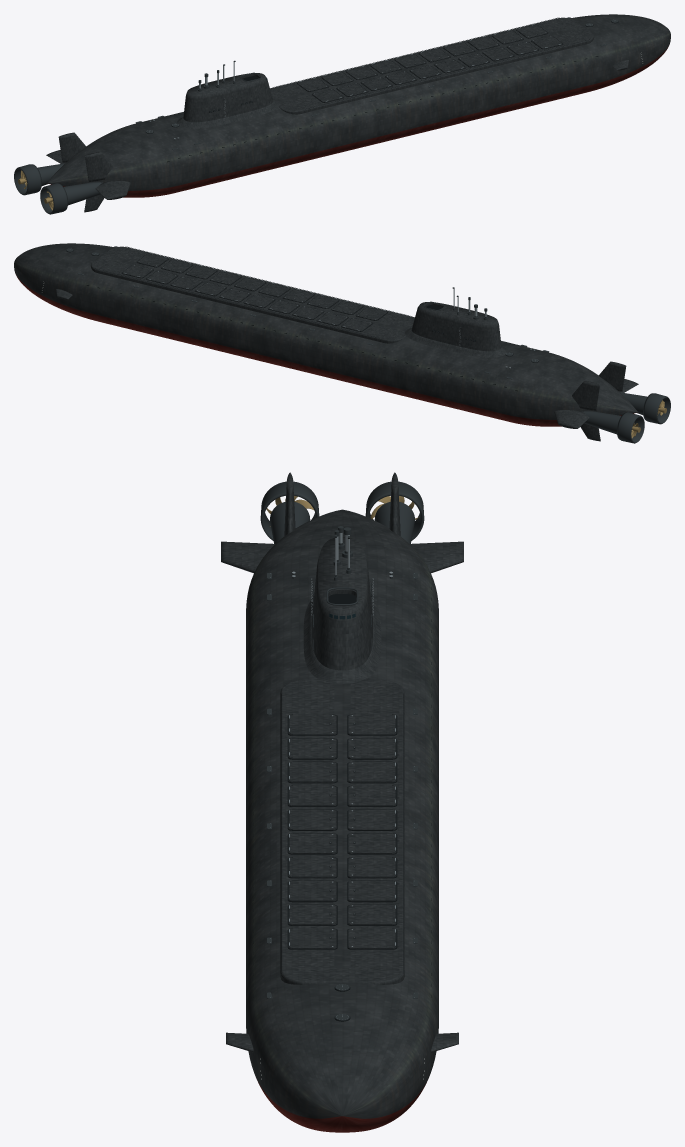
File: RU_SSBN_Typhoon_COLLISION.fbx
3 views of the same model, one above another, from view 1: azimuth 30°, elevation 25°; view 2: azimuth 150°, elevation 25°; view 3: azimuth 270°, elevation 25° (orthographic). The views are drawn at different scales.
Parts seen in each view (by area): view 1: SM_Typhoon; view 2: SM_Typhoon; view 3: SM_Typhoon.
Part boxes in pixels (bbox=[...]): SM_Typhoon: bbox=[14, 14, 670, 214]; SM_Typhoon: bbox=[14, 243, 670, 443]; SM_Typhoon: bbox=[221, 472, 463, 1132].
Size of what is drawn, in the model's own units: 175 by 29 by 28.33.
